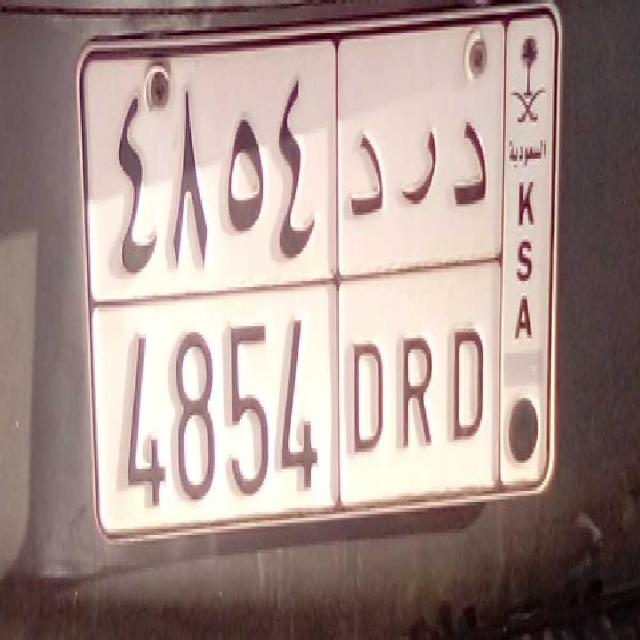license_plate: (107, 287, 501, 533)
